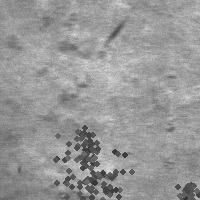rolled-in_scale: (32, 119, 144, 200), (32, 13, 82, 99), (37, 74, 94, 132), (54, 115, 108, 169), (46, 164, 119, 199), (55, 21, 106, 61), (168, 172, 200, 200)
